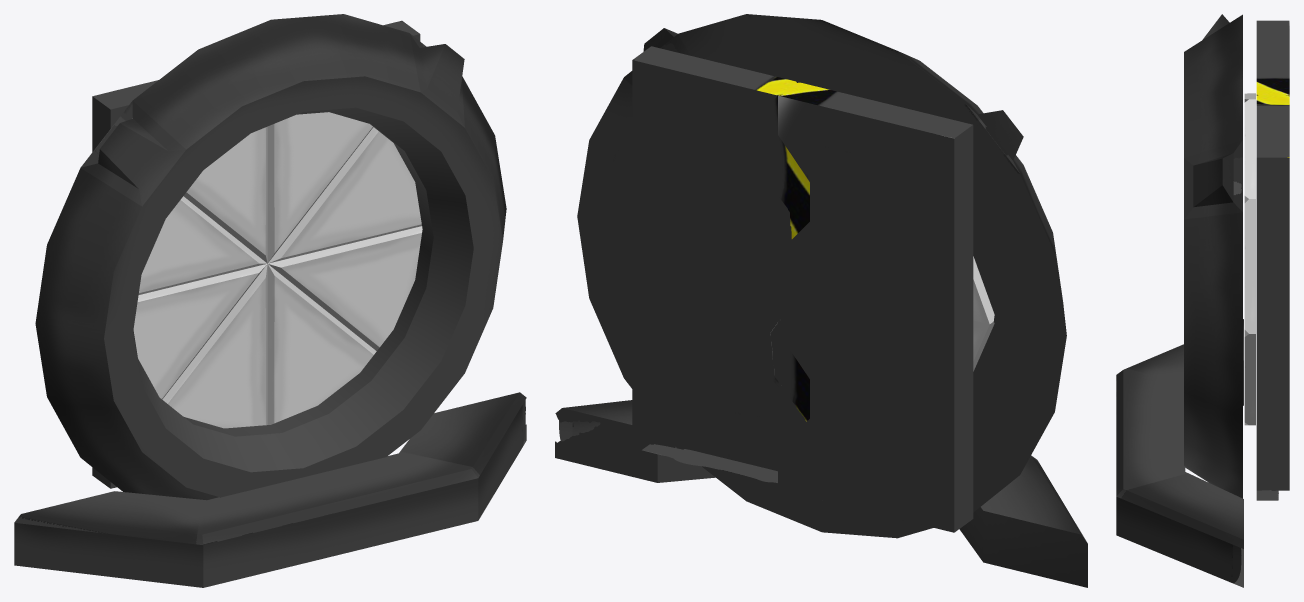
The model's file is Iris Door.fbx.
The picture shows the model from 3 angles, left to right: view 1: azimuth 30°, elevation 25°; view 2: azimuth 150°, elevation 25°; view 3: azimuth 270°, elevation 25°; orthographic projection. The views are drawn at different scales.
Visible parts, largest first — view 1: IrisDoor_Door, IrisDoor_step, IrisDoor_triangle4, IrisDoor_triangle3, IrisDoor_triangle2, IrisDoor_triangle5, IrisDoor_triangle1, IrisDoor_triangle6, IrisDoor_triangle8, IrisDoor_triangle7, Door_Left; view 2: Door_Left, Door_Right, IrisDoor_Door, IrisDoor_step, IrisDoor_triangle7; view 3: IrisDoor_Door, IrisDoor_step, Door_Right, Door_Left, IrisDoor_triangle2, IrisDoor_triangle1, IrisDoor_triangle3.
Part boxes in pixels (left/top/right/bottom): IrisDoor_Door: left=35, top=14, right=506, bottom=500; IrisDoor_step: left=14, top=392, right=526, bottom=587; IrisDoor_triangle4: left=267, top=264, right=376, bottom=424; IrisDoor_triangle3: left=268, top=226, right=422, bottom=350; IrisDoor_triangle2: left=268, top=127, right=421, bottom=263; IrisDoor_triangle5: left=162, top=264, right=267, bottom=428; IrisDoor_triangle1: left=267, top=112, right=373, bottom=262; IrisDoor_triangle6: left=133, top=264, right=266, bottom=399; IrisDoor_triangle8: left=183, top=126, right=267, bottom=263; IrisDoor_triangle7: left=138, top=196, right=267, bottom=294; Door_Left: left=92, top=80, right=158, bottom=488; Door_Left: left=778, top=82, right=973, bottom=532; Door_Right: left=632, top=46, right=809, bottom=482; IrisDoor_Door: left=577, top=14, right=1066, bottom=538; IrisDoor_step: left=555, top=400, right=1087, bottom=587; IrisDoor_triangle7: left=973, top=256, right=994, bottom=324; IrisDoor_Door: left=1184, top=14, right=1242, bottom=498; IrisDoor_step: left=1116, top=319, right=1243, bottom=587; Door_Right: left=1256, top=94, right=1289, bottom=500; Door_Left: left=1256, top=20, right=1289, bottom=157; IrisDoor_triangle2: left=1244, top=199, right=1255, bottom=333; IrisDoor_triangle1: left=1244, top=99, right=1255, bottom=202; IrisDoor_triangle3: left=1244, top=330, right=1255, bottom=425.
Bounding box in the file's own units: 240 × 220 × 77.35.
Materials: 2 (2 with a texture image).
